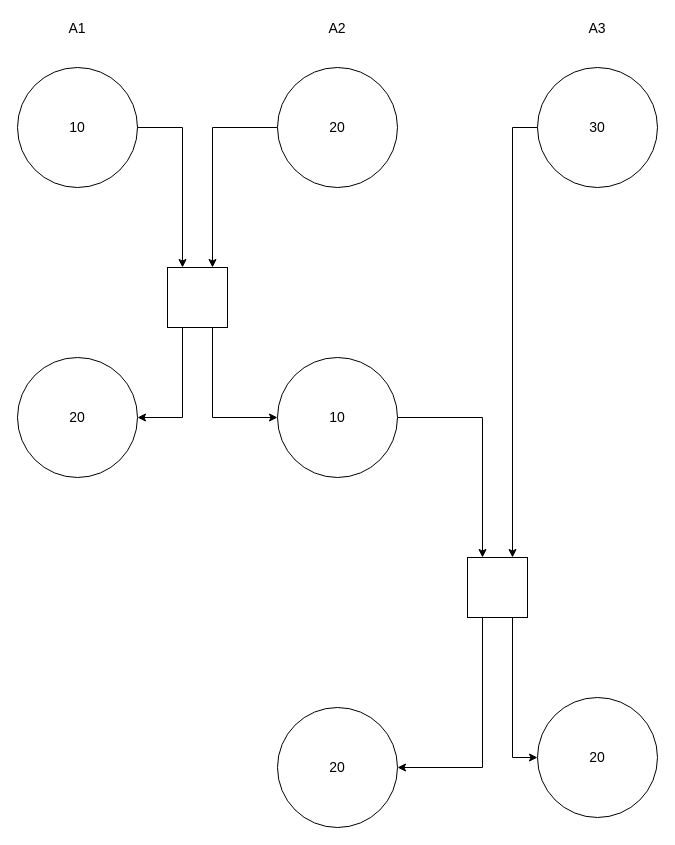
Image size: 675x845. Some labels were removed from this diagram. The box of each missing label's shape, as (x1, y1, x2, y2) in pixels:
E1: (166, 266, 228, 328)
E2: (466, 556, 528, 618)
